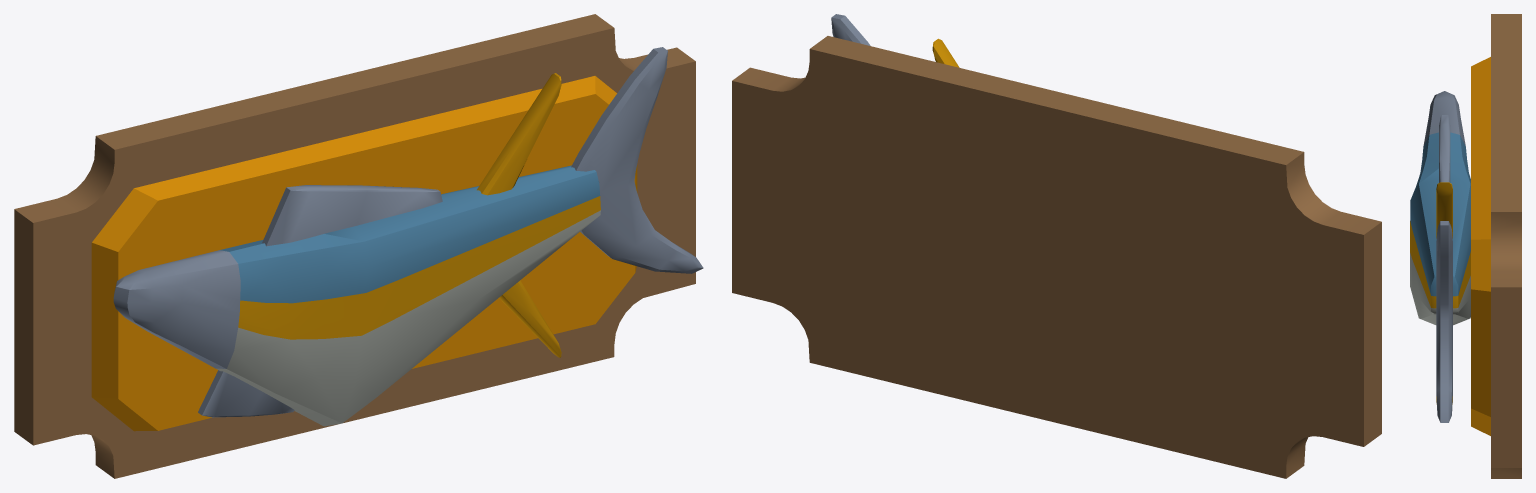
The model's file is deco-fish.glb.
3 views of the same model, side by side, from view 1: azimuth 30°, elevation 25°; view 2: azimuth 150°, elevation 25°; view 3: azimuth 270°, elevation 25° (orthographic). The views are drawn at different scales.
Parts seen in each view (by area): view 1: Decoration_Fish; view 2: Decoration_Fish; view 3: Decoration_Fish.
Boxes of the visible parts, x1,y1,x2,y2 form: Decoration_Fish: (14,14,703,478); Decoration_Fish: (732,14,1381,478); Decoration_Fish: (1410,14,1521,478).
Size of the model in its own units: 3.02 by 1.44 by 0.5443.
